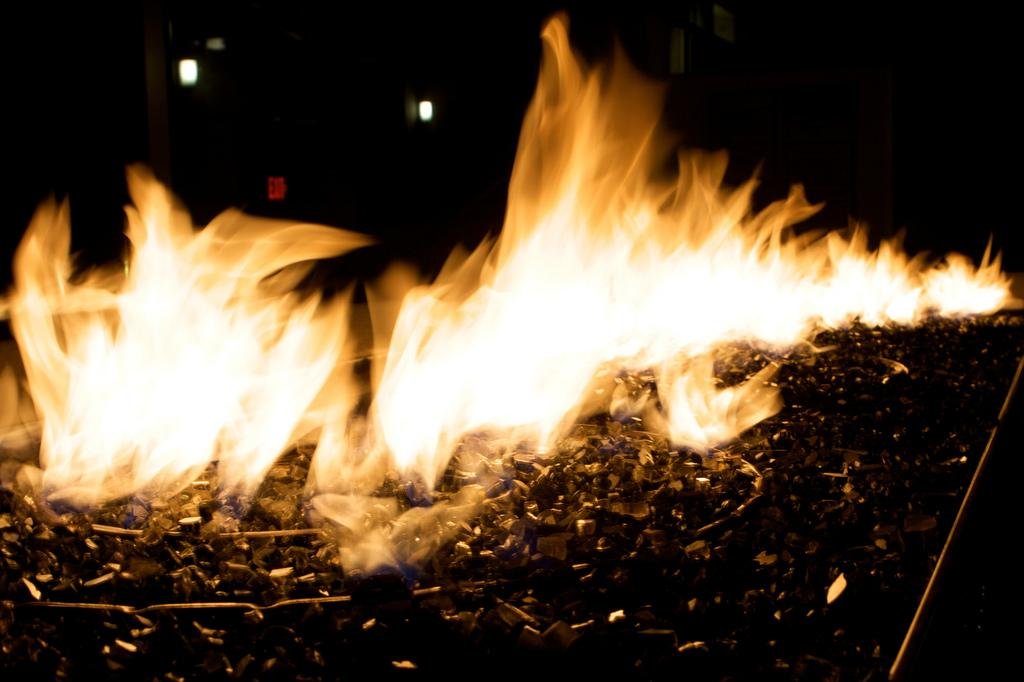fire: (35, 273, 317, 455), (548, 223, 813, 363), (387, 290, 530, 457)
